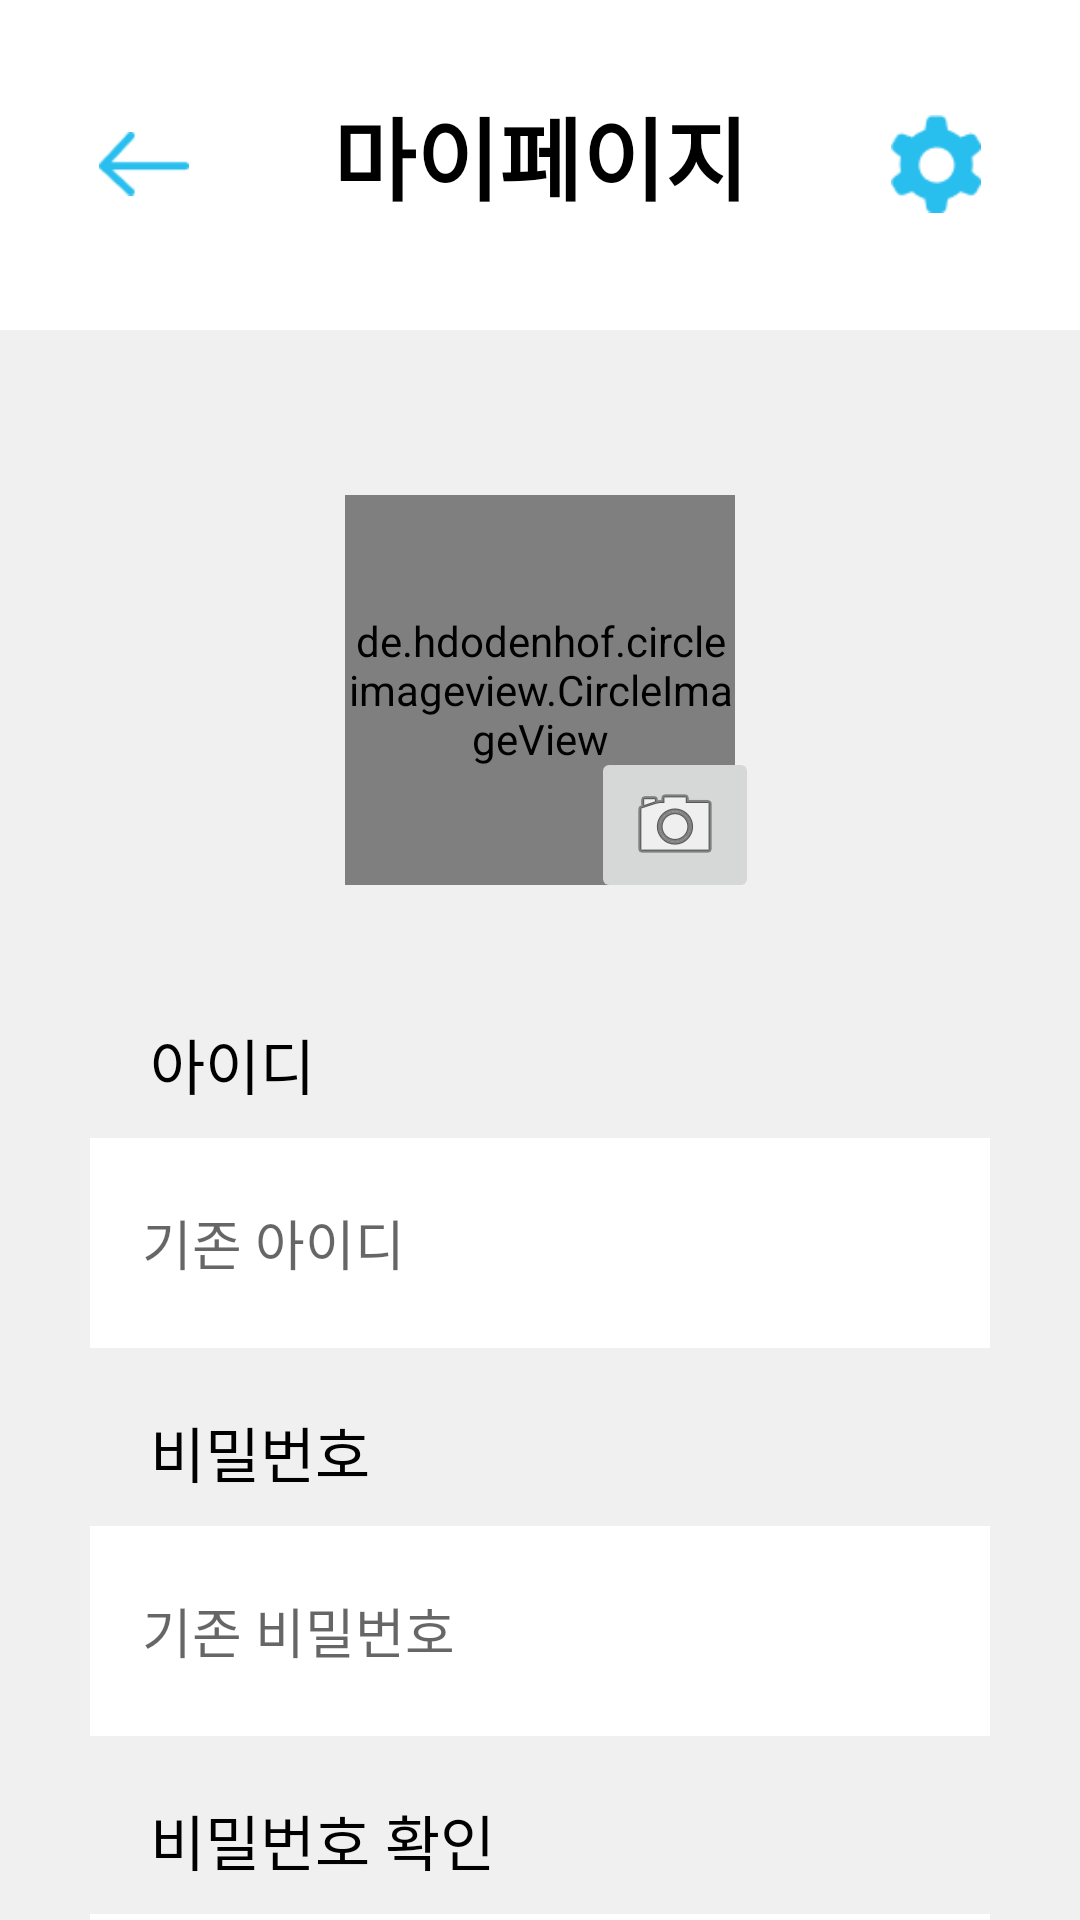

Icons on this 1080*1920 Android screen, each with the point to tap as (x,y):
backbtn: (144,164)
camera: (675,825)
